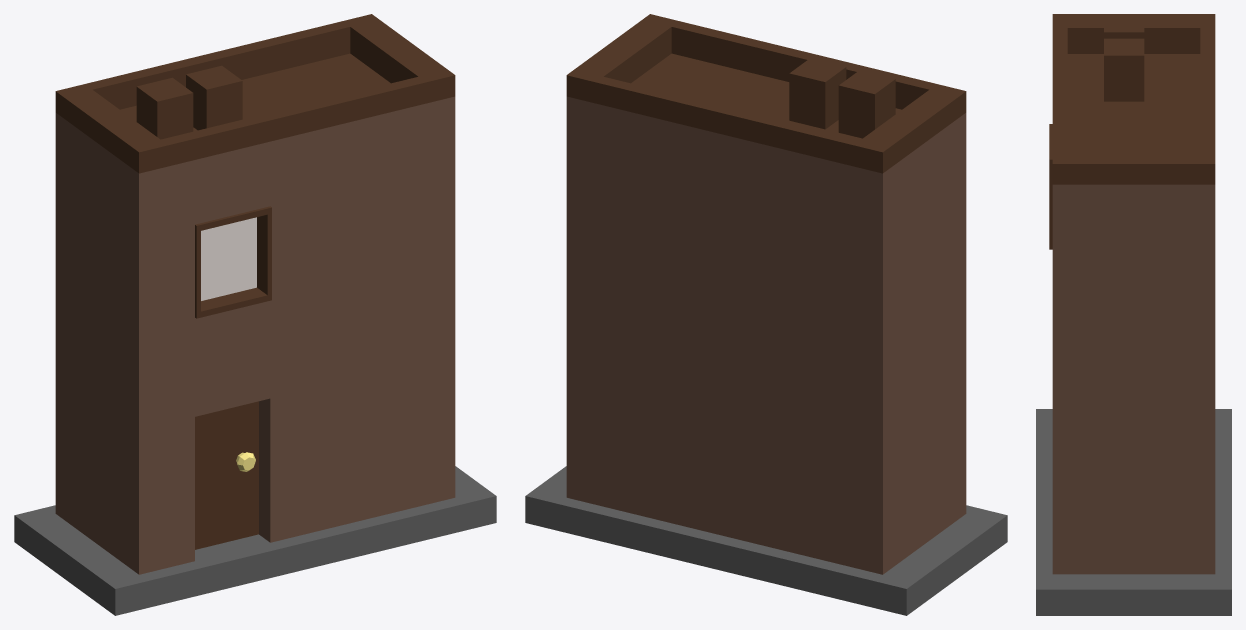
The model's file is Building 8.fbx.
3 views of the same model, side by side, from view 1: azimuth 30°, elevation 25°; view 2: azimuth 150°, elevation 25°; view 3: azimuth 270°, elevation 25° (orthographic). The views are drawn at different scales.
Parts seen in each view (by area): view 1: Cube; view 2: Cube; view 3: Cube.
Part boxes in pixels (x1,y1,x2,y2): Cube: [14, 14, 496, 615]; Cube: [525, 14, 1007, 615]; Cube: [1036, 14, 1231, 615].
Size of the model in its own units: 8378 by 9866 by 3837.
